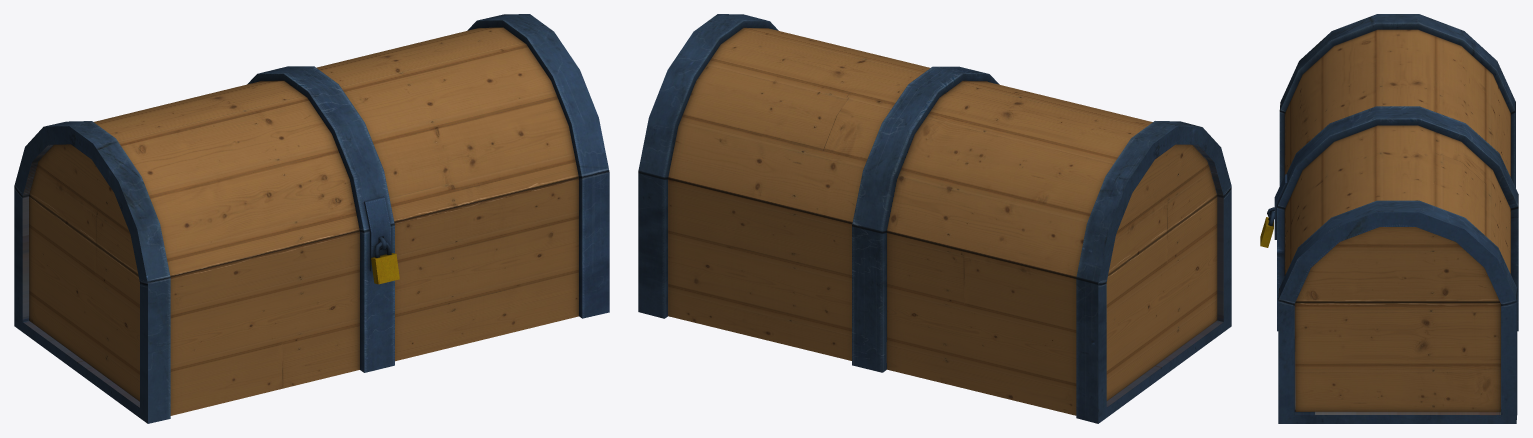
The model's file is coffre.fbx.
3 renders of one model, left to right at view 1: azimuth 30°, elevation 25°; view 2: azimuth 150°, elevation 25°; view 3: azimuth 270°, elevation 25°, orthographic. The views are drawn at different scales.
Visible parts, largest first — view 1: polymsh21; view 2: polymsh21; view 3: polymsh21.
Part boxes in pixels (bbox=[...]): polymsh21: bbox=[14, 14, 609, 423]; polymsh21: bbox=[638, 14, 1231, 423]; polymsh21: bbox=[1260, 14, 1518, 423].
Bounding box in the file's own units: 13.97 × 6.96 × 7.7.
